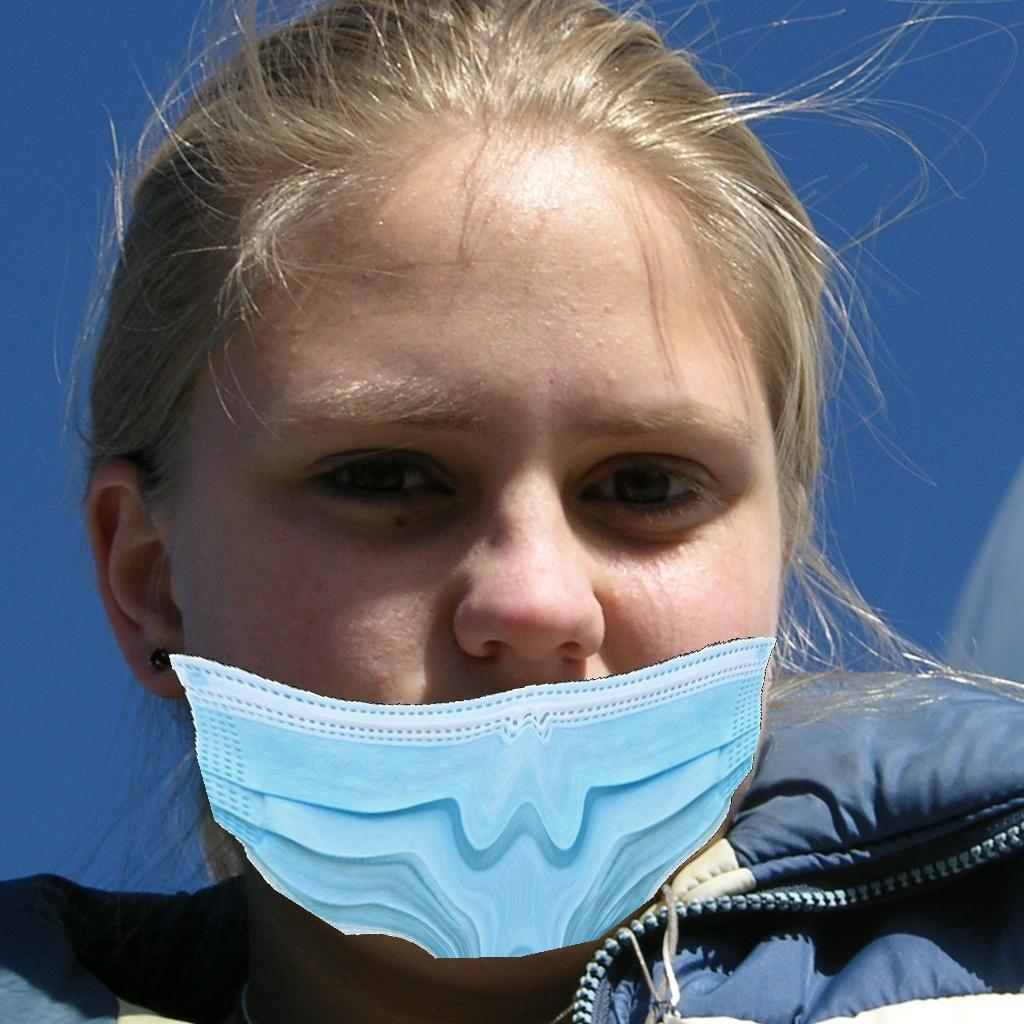Máscara Incorreta: (112, 258, 814, 955)
